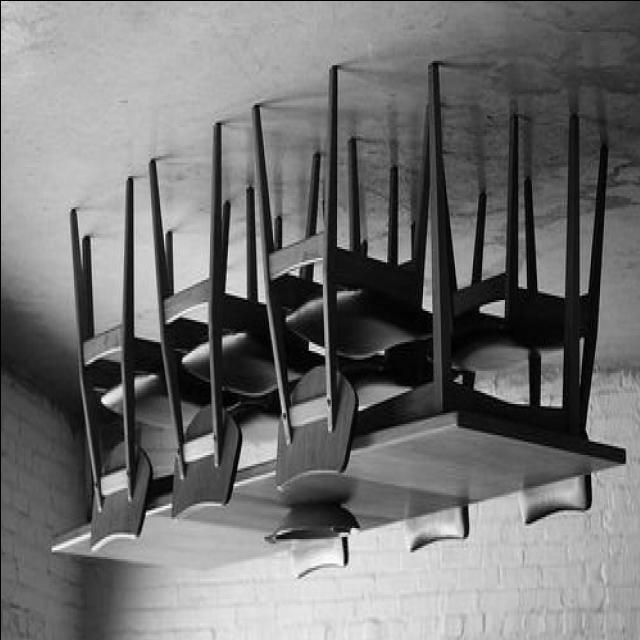chair: (251, 74, 434, 486), (440, 83, 609, 523), (68, 169, 230, 555), (148, 130, 296, 506)
table: (50, 63, 624, 581)
